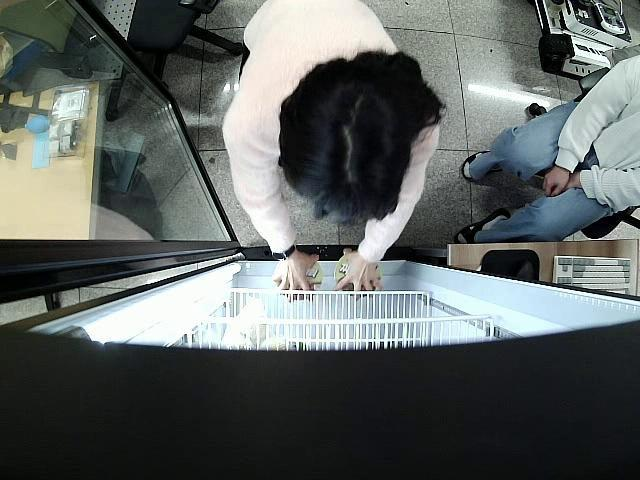03_chapagetti_L: (336, 256, 380, 299), (280, 264, 320, 301)
